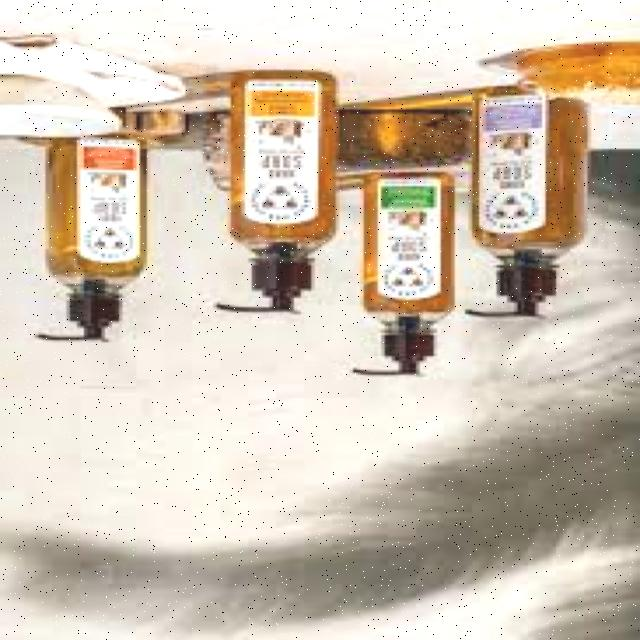liquid soap: (210, 60, 348, 317), (452, 78, 588, 326), (30, 134, 148, 352), (353, 173, 450, 381)
